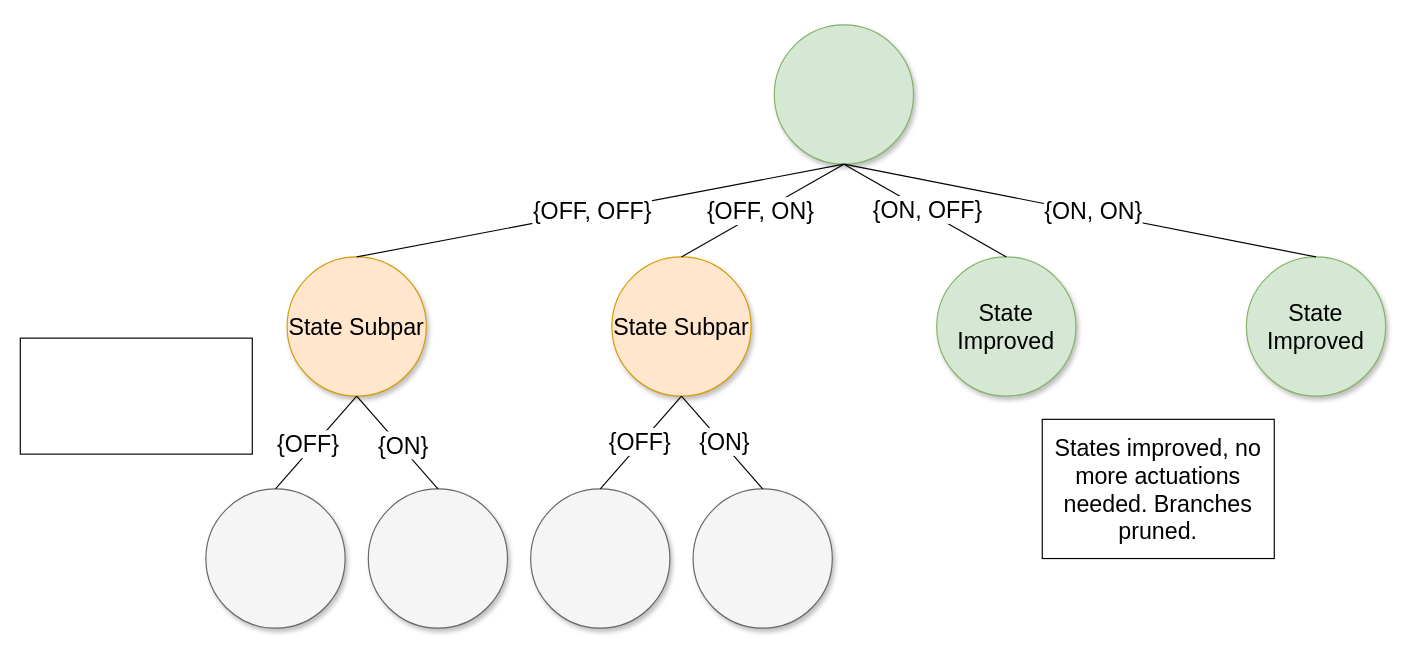
Image size: 1413x657. Some labels were removed from this diagram. Each missing label, with the centre of its shape:
"Initial State" goes at point (844, 95).
"States subpar, some actuations still needed." goes at point (135, 395).
